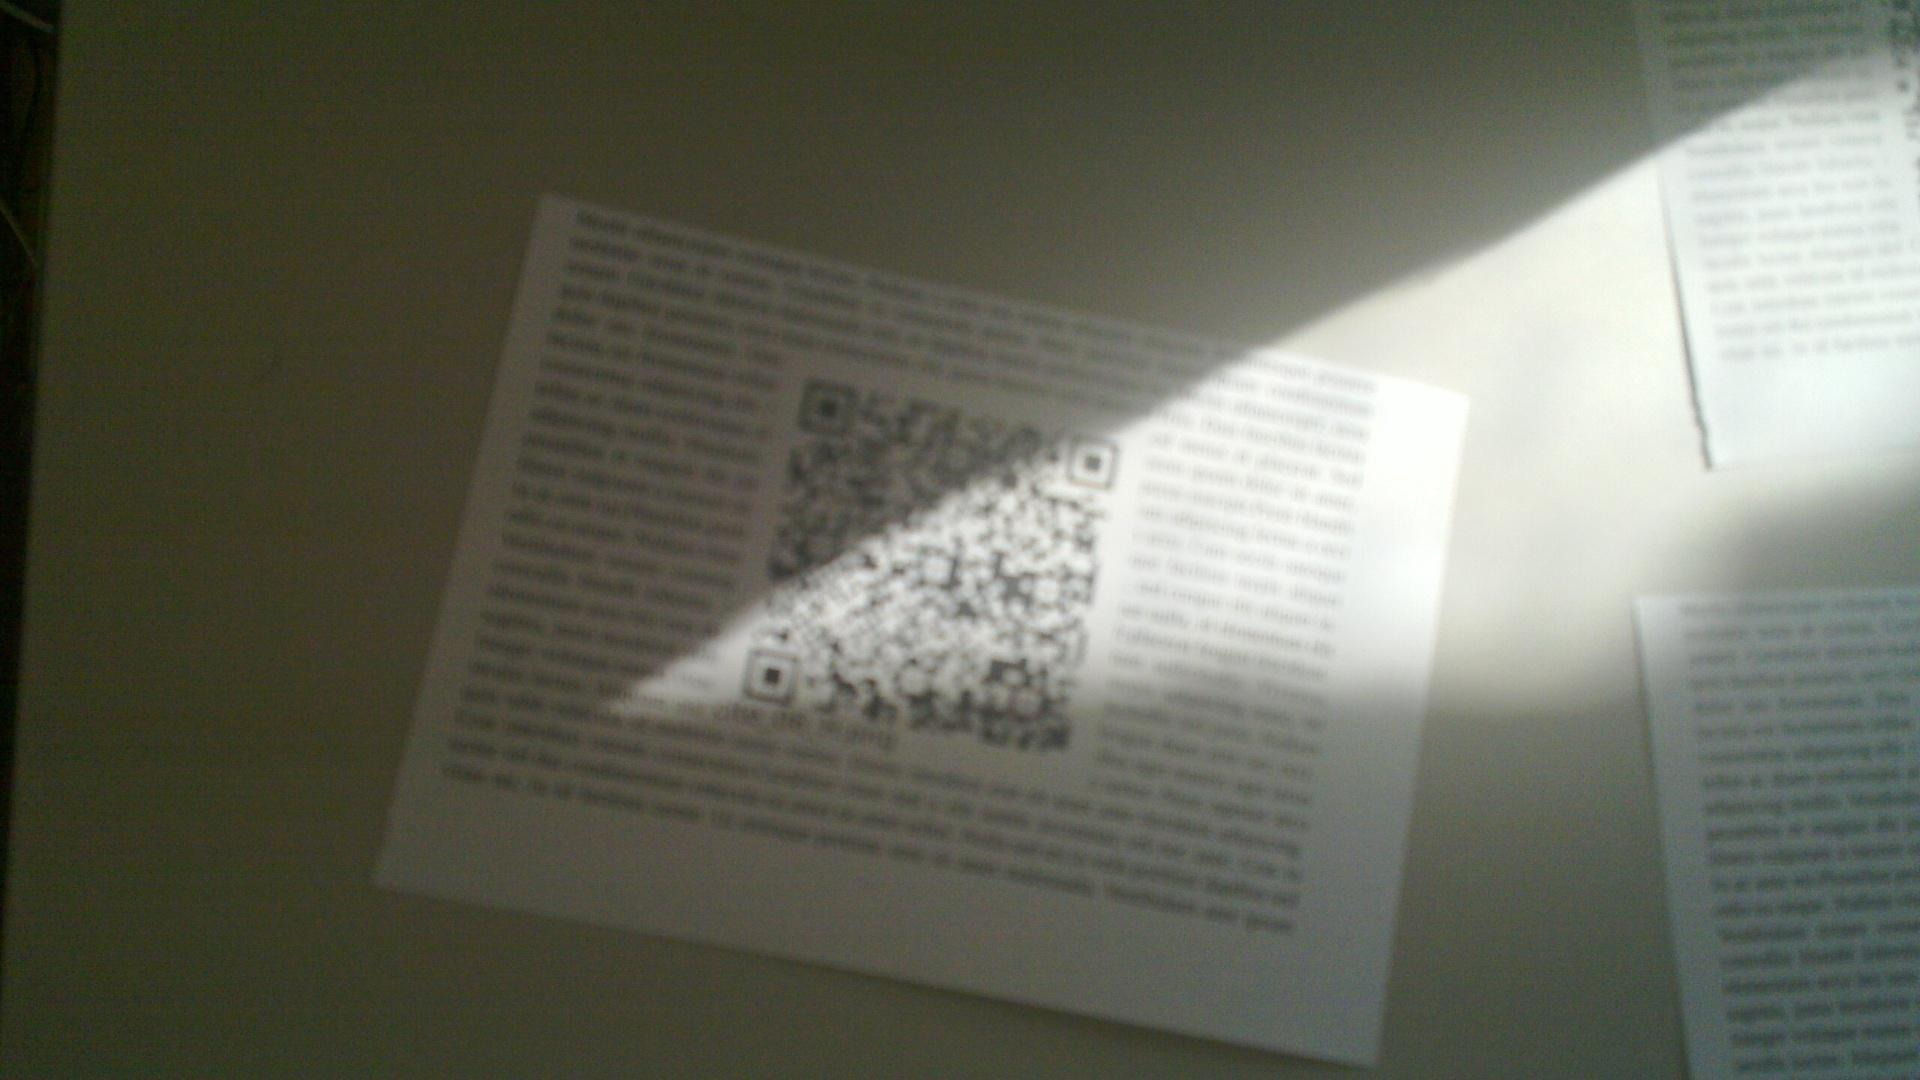qr_code: (742, 377, 1118, 753)
